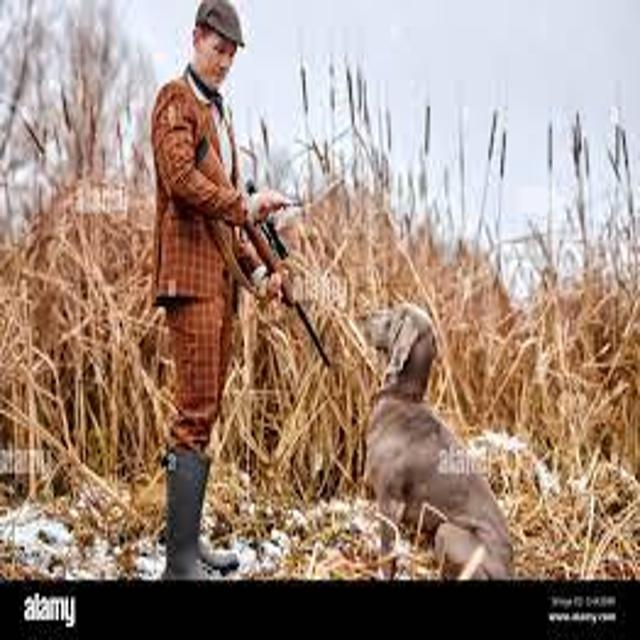dog: (302, 278, 562, 585)
gun: (151, 119, 360, 397)
poacher: (95, 1, 357, 579)
